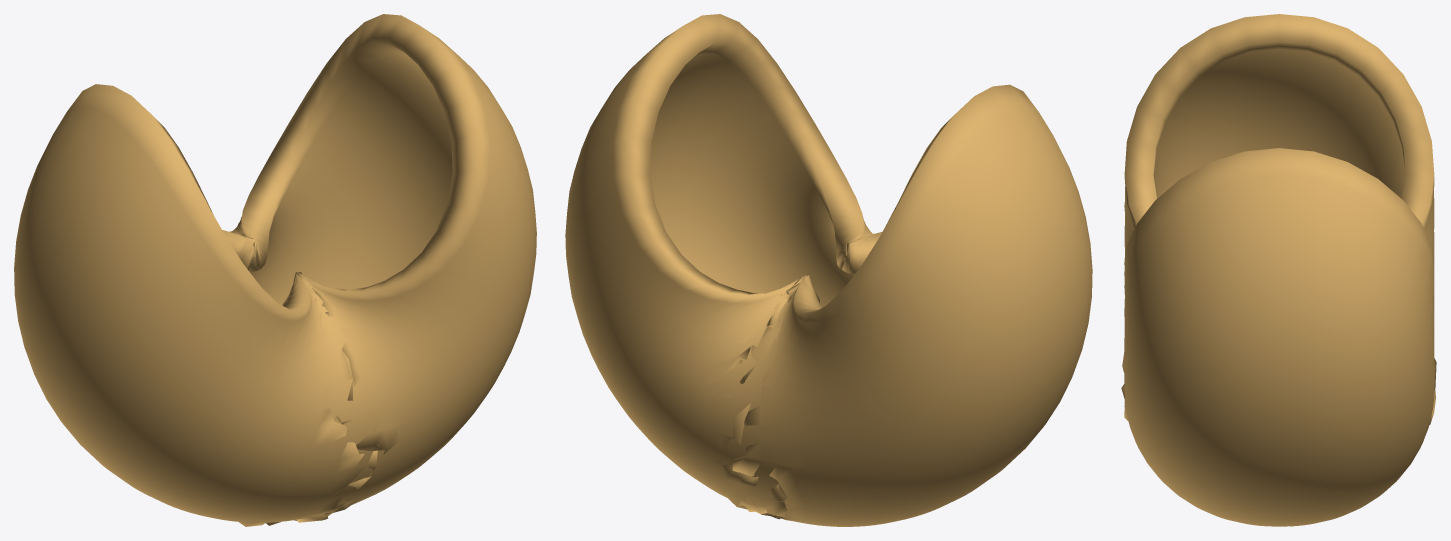
The model's file is fortune-cookie.glb.
3 views of the same model, side by side, from view 1: azimuth 30°, elevation 25°; view 2: azimuth 150°, elevation 25°; view 3: azimuth 270°, elevation 25° (orthographic). The views are drawn at different scales.
Parts seen in each view (by area): view 1: HalfL, HalfR, Whole; view 2: HalfL, HalfR, Whole; view 3: HalfR, HalfL.
Boxes of the visible parts, x1,y1,x2,y2 form: HalfL: [14, 84, 378, 526]; HalfR: [229, 14, 536, 525]; Whole: [222, 235, 413, 522]; HalfL: [732, 84, 1092, 526]; HalfR: [565, 14, 874, 519]; Whole: [692, 232, 871, 524]; HalfR: [1124, 148, 1436, 526]; HalfL: [1121, 14, 1435, 424].
Size of the model in its own units: 1 by 0.8991 by 0.6074.
